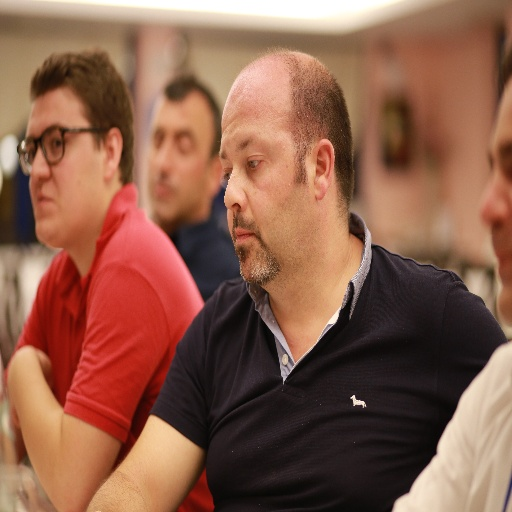hand: (12, 362, 52, 417)
